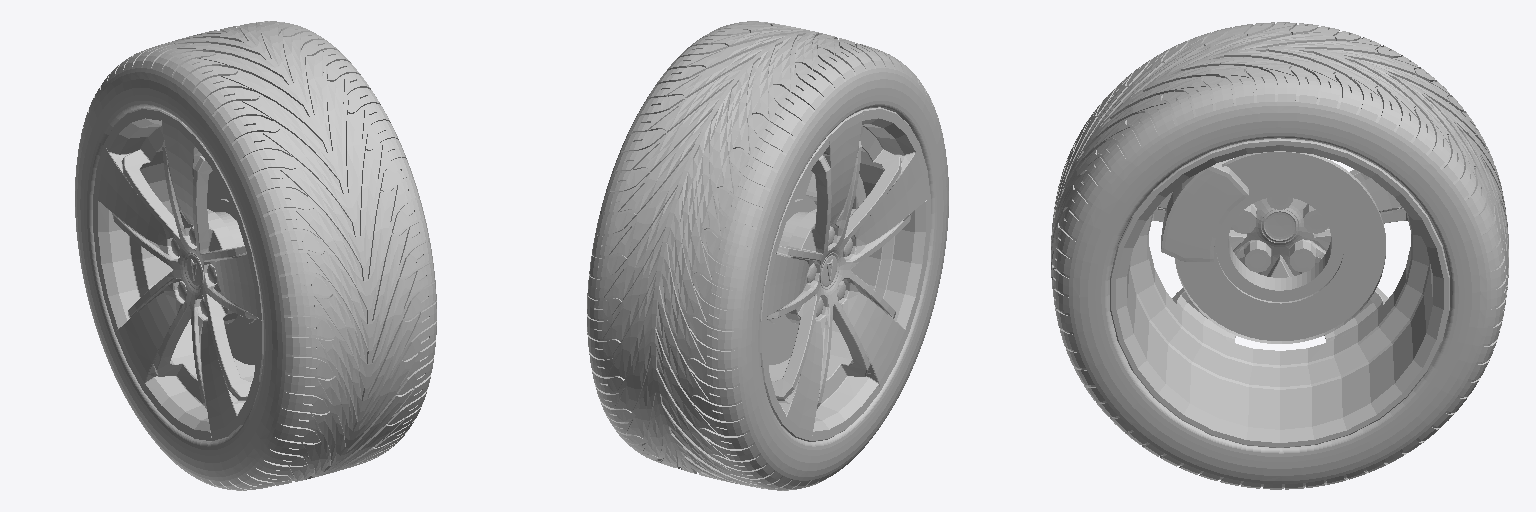
The model's file is modelo_llantadd.obj.
The picture shows the model from 3 angles: view 1: azimuth 30°, elevation 25°; view 2: azimuth 150°, elevation 25°; view 3: azimuth 270°, elevation 25°; orthographic projection.
Visible parts, largest first — view 1: llantadd3, llantadd1, llantadd2, pasted__Group001_group_pasted__K2_pasted__tire_f_R_pasted__HDM_0; view 2: llantadd3, llantadd1, llantadd2, pasted__Group001_group_pasted__K2_pasted__tire_f_R_pasted__HDM_0; view 3: llantadd3, llantadd1, llantadd2, pasted__Group001_group_pasted__K2_pasted__tire_f_R_pasted__HDM_0.
Part boxes in pixels (bbox=[...]): llantadd3: bbox=[75, 21, 436, 490]; llantadd1: bbox=[93, 107, 263, 441]; llantadd2: bbox=[207, 171, 257, 364]; pasted__Group001_group_pasted__K2_pasted__tire_f_R_pasted__HDM_0: bbox=[171, 220, 237, 316]; llantadd3: bbox=[587, 21, 948, 490]; llantadd1: bbox=[760, 107, 930, 441]; llantadd2: bbox=[766, 171, 816, 364]; pasted__Group001_group_pasted__K2_pasted__tire_f_R_pasted__HDM_0: bbox=[806, 173, 865, 316]; llantadd3: bbox=[1051, 22, 1508, 489]; llantadd1: bbox=[1110, 138, 1449, 447]; llantadd2: bbox=[1175, 151, 1385, 343]; pasted__Group001_group_pasted__K2_pasted__tire_f_R_pasted__HDM_0: bbox=[1161, 159, 1324, 268].
Size of the model in its own units: 1.12 by 2.79 by 2.79.